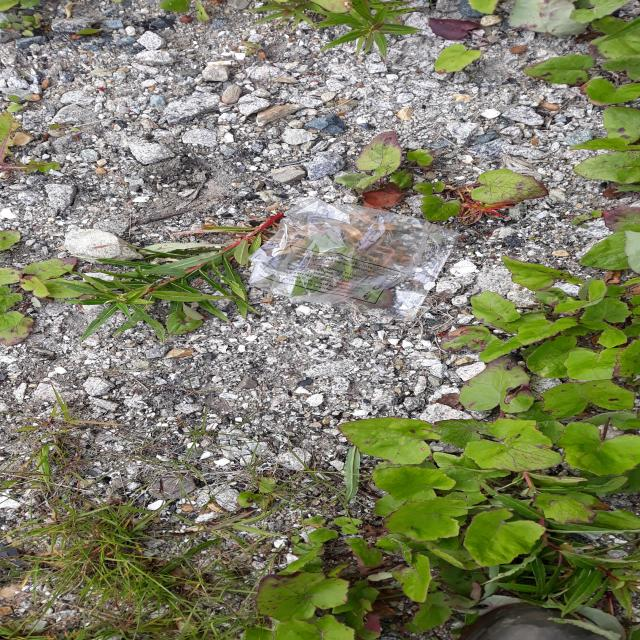litter: (248, 200, 458, 318)
